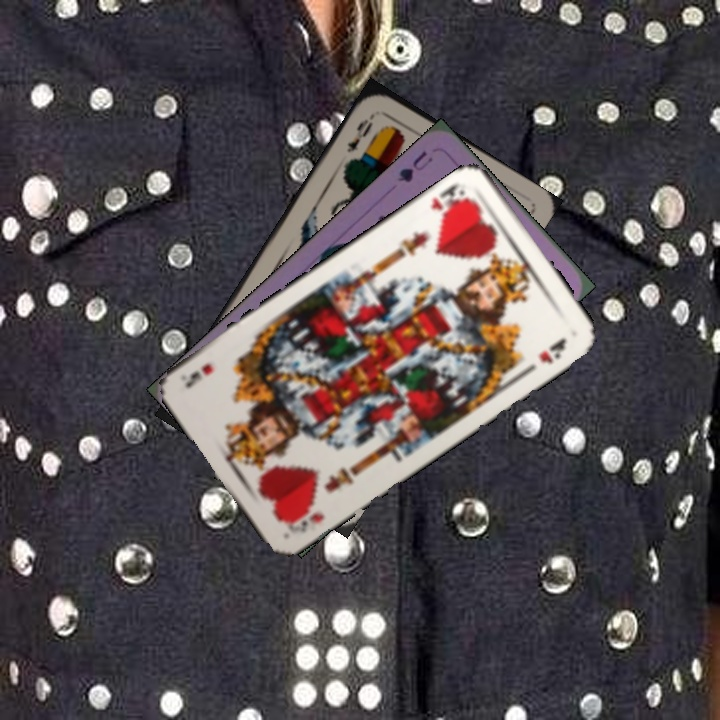EO: (342, 109, 378, 156)
GU: (393, 147, 436, 186)
HK: (427, 178, 472, 219), (288, 504, 327, 536)
